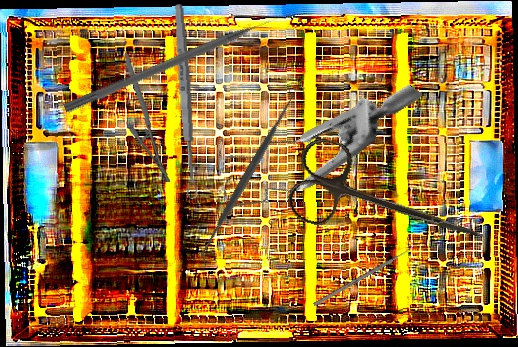Iris Scissors: (282, 133, 499, 274)
Needle Holder: (121, 54, 174, 182)
Pusher: (62, 11, 285, 116), (313, 243, 419, 307)
Spatula Surgical: (188, 87, 306, 268)
Speculum: (193, 14, 423, 261)
Surgical Spoon: (172, 3, 199, 200)
